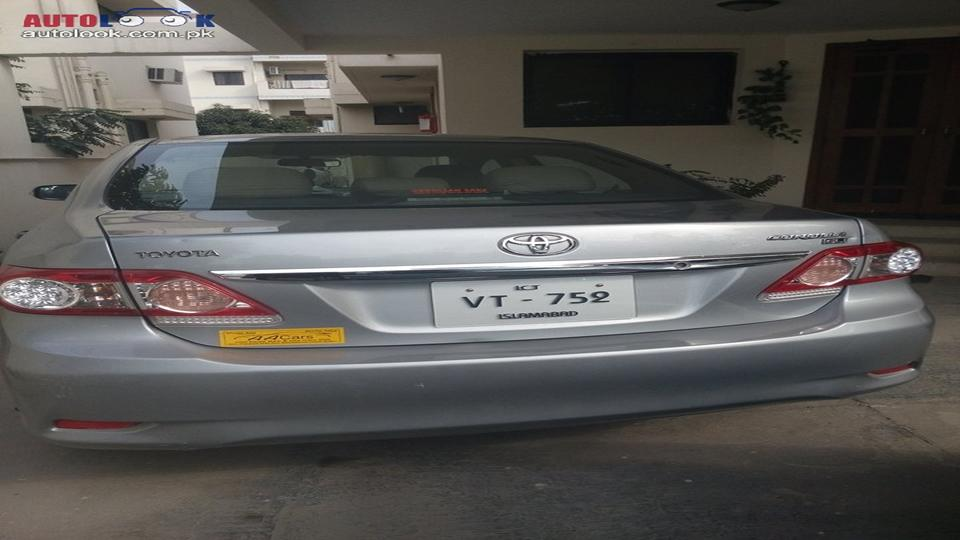NumberPlate: (427, 278, 648, 327)
